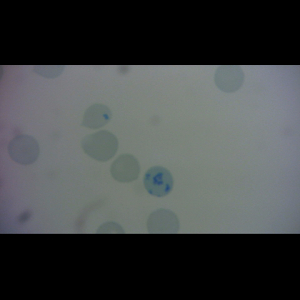aggregate reticulocyte: (143, 166, 175, 198)
erythrocyte: (80, 129, 119, 162), (6, 134, 40, 166), (110, 153, 143, 184), (80, 103, 114, 131), (214, 65, 246, 94)
